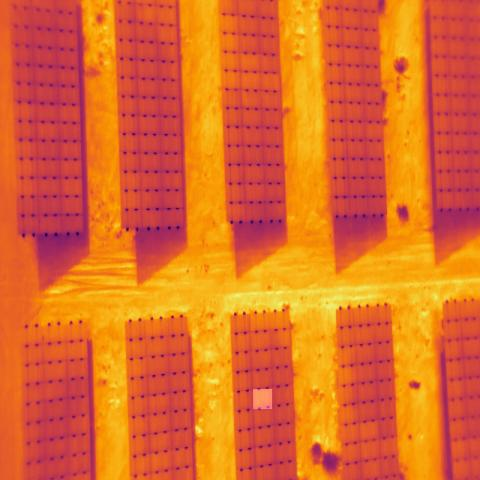fault: (253, 389, 272, 409)
